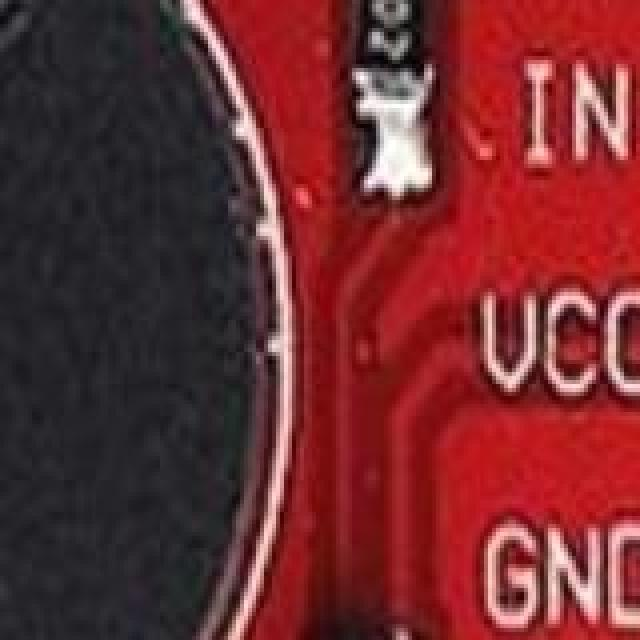buzzer: (0, 0, 288, 640)
resistor: (356, 0, 440, 152)
transistor: (264, 612, 412, 640)
